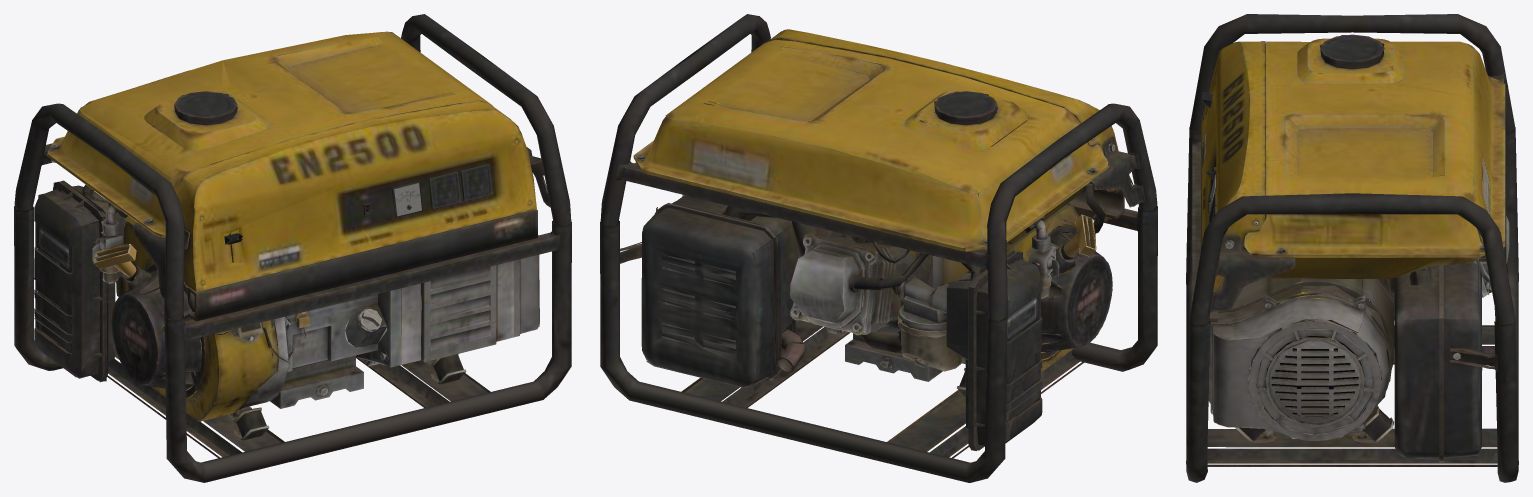
The model's file is portable_generator.glb.
3 views of the same model, side by side, from view 1: azimuth 30°, elevation 25°; view 2: azimuth 150°, elevation 25°; view 3: azimuth 270°, elevation 25° (orthographic).
Visible parts, largest first — view 1: portable_generator; view 2: portable_generator; view 3: portable_generator.
Boxes of the visible parts, left/top/right/bottom form: portable_generator: left=14, top=14, right=571, bottom=482; portable_generator: left=600, top=14, right=1157, bottom=482; portable_generator: left=1186, top=14, right=1518, bottom=482.
Bounding box in the file's own units: 0.8179 × 0.5767 × 0.5641.
Materials: 2 (2 with a texture image).
